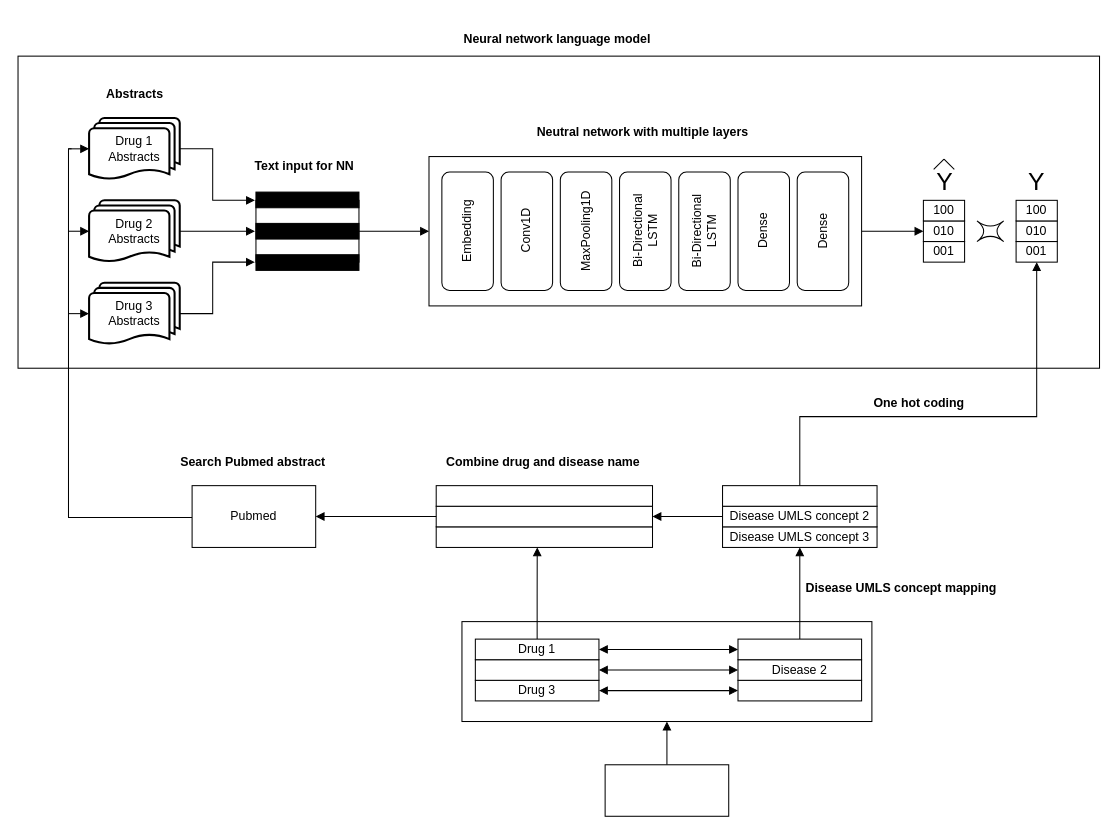
The diagram is 1118 pixels wide and 834 high, and some of its shapes have lost their labels. The shapes that lost their labels are listed below. From the top down, each one's box as (x1, y1, x2, y2) in pixels, then its label:
(435, 485, 653, 506): Drug 1 and Disease UMLS concept 1
(722, 485, 877, 506): Disease UMLS concept 1
(435, 505, 653, 527): Drug 2 and Disease UMLS concept 2
(435, 526, 653, 547): Drug 3 and Disease UMLS concept 3
(737, 638, 862, 660): Disease 1
(474, 659, 599, 680): Drug 2
(737, 679, 862, 701): Disease 3
(604, 764, 729, 816): DrugBank.com
